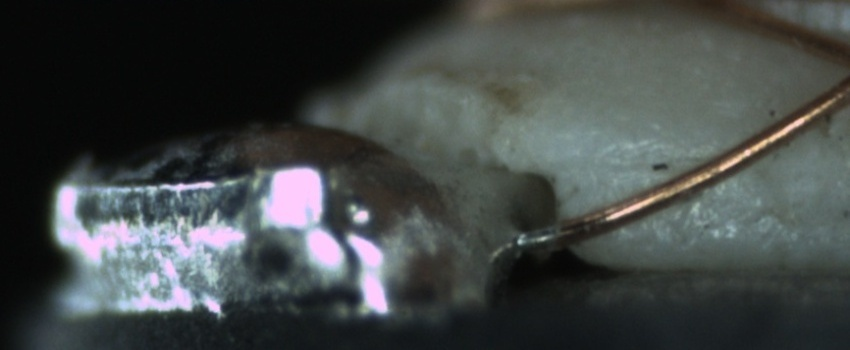DL: (591, 127, 738, 186)
TS: (512, 221, 563, 252)
